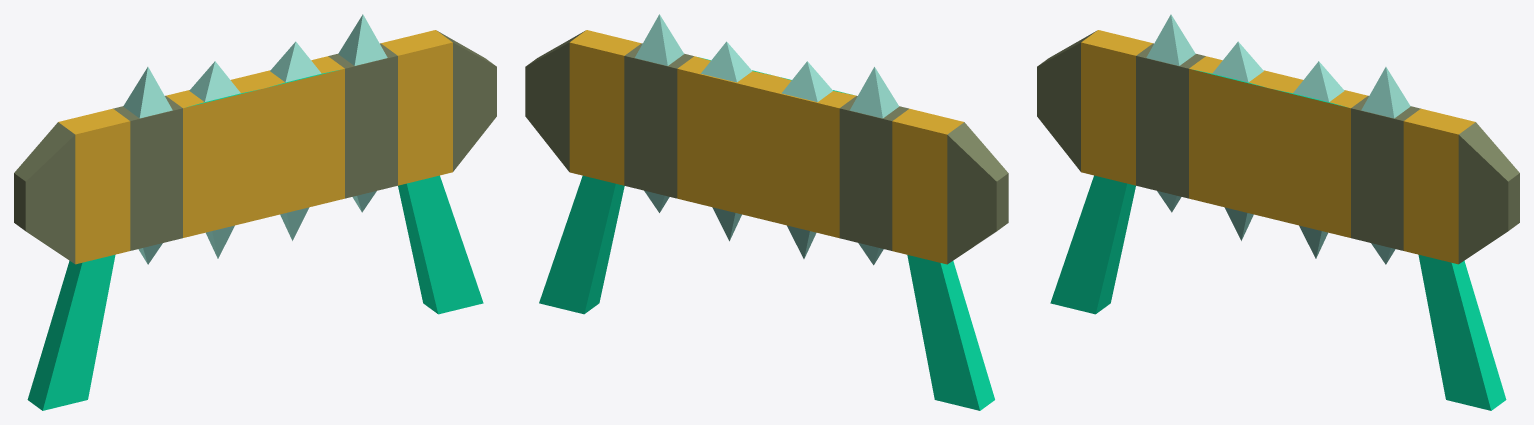
The model's file is Wall.fbx.
The picture shows the model from 3 angles, left to right: view 1: azimuth 30°, elevation 25°; view 2: azimuth 150°, elevation 25°; view 3: azimuth 330°, elevation 25°; orthographic projection.
Visible parts, largest first — view 1: Куб; view 2: Куб; view 3: Куб.
Boxes of the visible parts, left/top/right/bottom form: Куб: left=14, top=14, right=496, bottom=410; Куб: left=525, top=14, right=1008, bottom=410; Куб: left=1037, top=14, right=1519, bottom=410.
Bounding box in the file's own units: 541 × 341 × 34.16.
